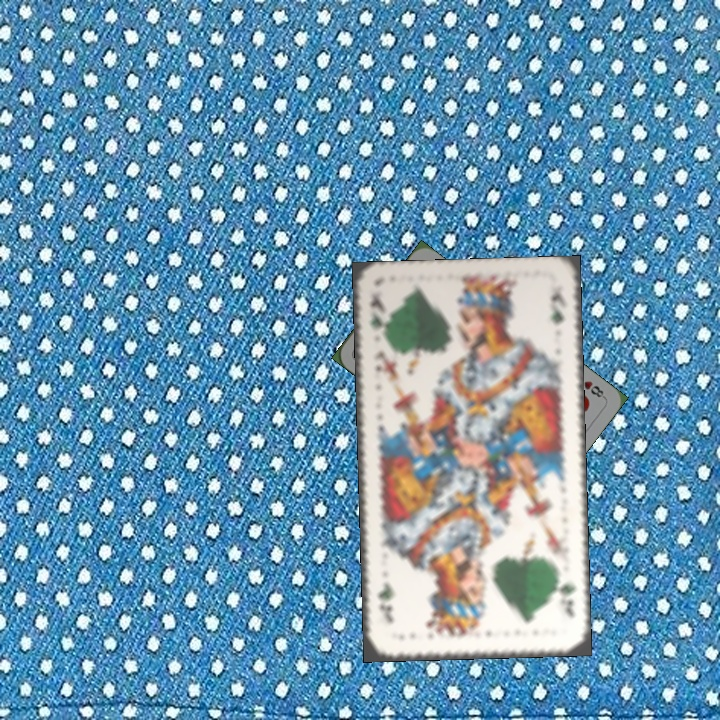GK: (554, 571, 579, 622), (365, 291, 388, 345)
H8: (580, 377, 608, 401)
